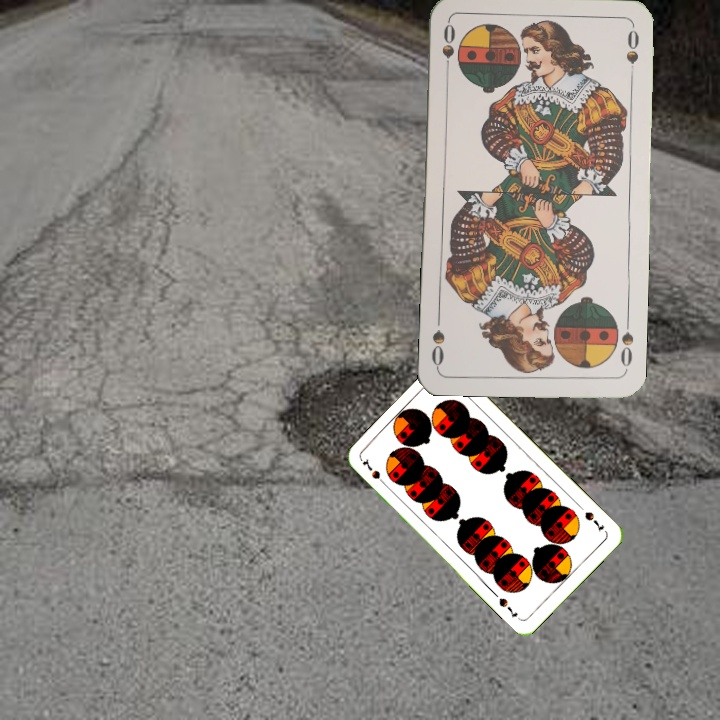S7: (358, 455, 390, 489), (580, 508, 607, 535)
SO: (438, 20, 458, 79), (616, 315, 636, 374)
